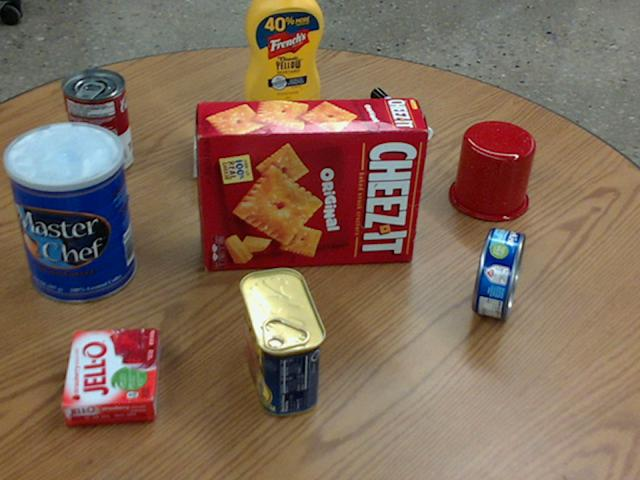cracker_box: (198, 98, 427, 268)
gelatin_box: (60, 327, 158, 425)
large_marker: (372, 87, 432, 140)
master_chef_can: (4, 123, 134, 303)
mug: (447, 120, 534, 221)
mustard_bottle: (245, 0, 323, 111)
potted_meat_can: (238, 267, 322, 414)
sugar_box: (192, 109, 345, 179)
tomato_soup_can: (62, 68, 132, 175)
tuna_fish_can: (472, 227, 524, 319)
